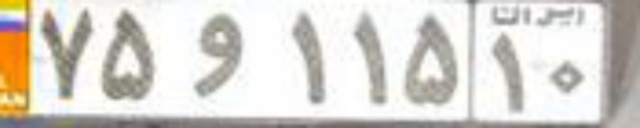0: (543, 60, 587, 93)
1: (349, 12, 386, 103), (289, 11, 325, 103), (488, 31, 524, 112)
5: (102, 9, 157, 100), (403, 14, 457, 105)
7: (38, 7, 95, 100)
vav: (192, 12, 242, 98)
